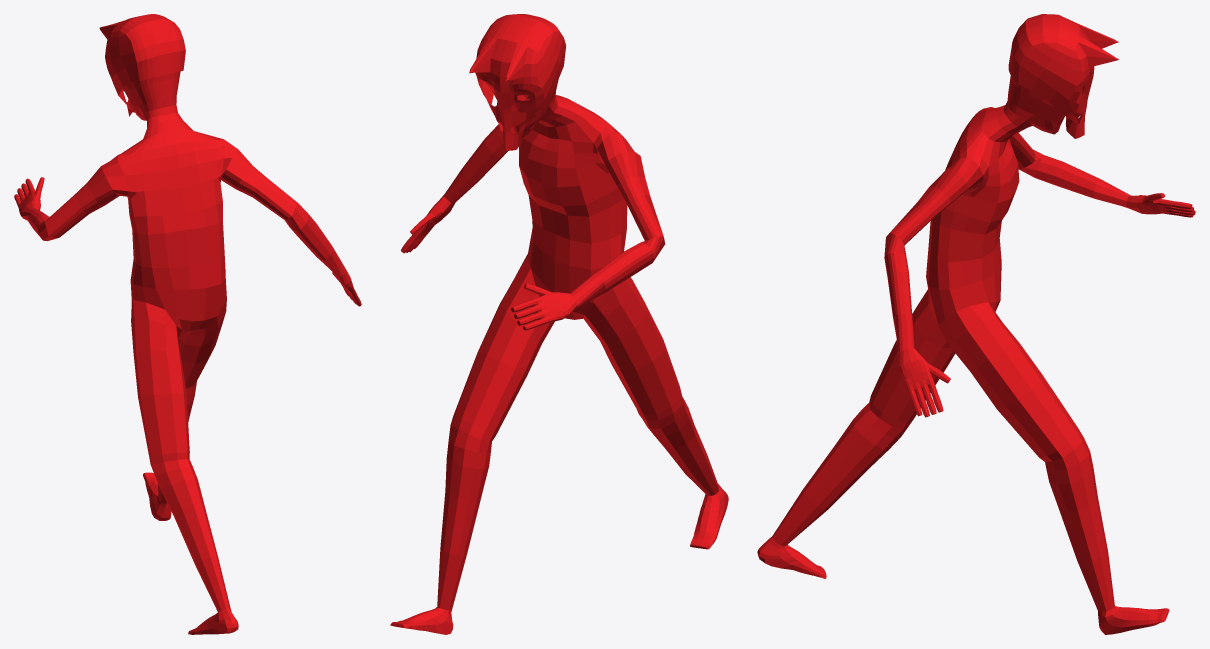
The model's file is marchaE_000053.obj.
3 views of the same model, side by side, from view 1: azimuth 30°, elevation 25°; view 2: azimuth 150°, elevation 25°; view 3: azimuth 270°, elevation 25° (orthographic). The views are drawn at different scales.
Parts seen in each view (by area): view 1: Plane.002_Plane.001; view 2: Plane.002_Plane.001; view 3: Plane.002_Plane.001.
Boxes of the visible parts, left/top/right/bottom form: Plane.002_Plane.001: left=14, top=14, right=361, bottom=634; Plane.002_Plane.001: left=390, top=14, right=728, bottom=634; Plane.002_Plane.001: left=757, top=14, right=1195, bottom=634.
Size of the model in its own units: 3.46 by 6.51 by 4.39.
